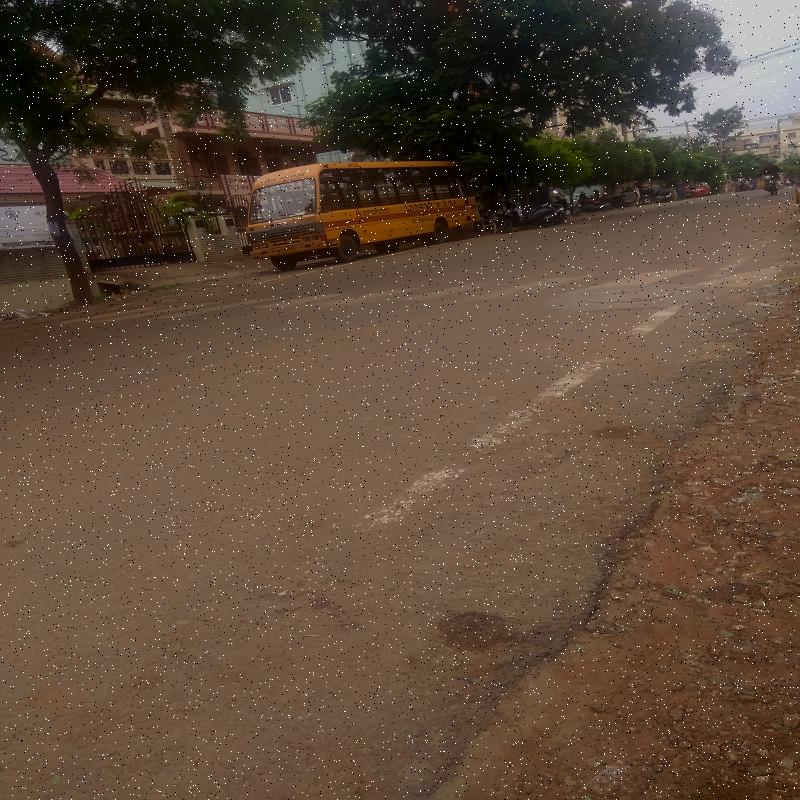bus: (240, 155, 477, 283)
